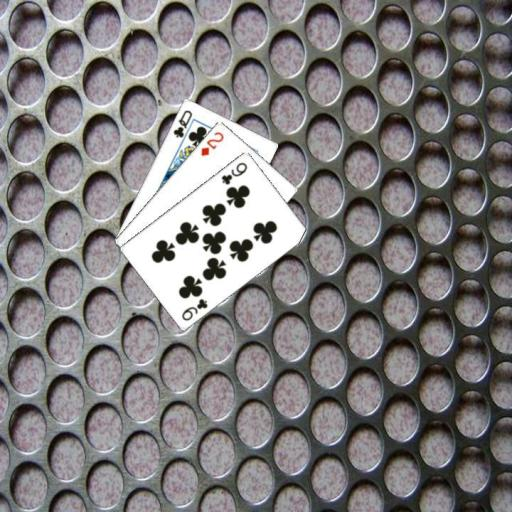2D: (198, 128, 225, 157)
9C: (218, 159, 249, 186), (179, 295, 209, 322)
QC: (170, 107, 193, 139)
